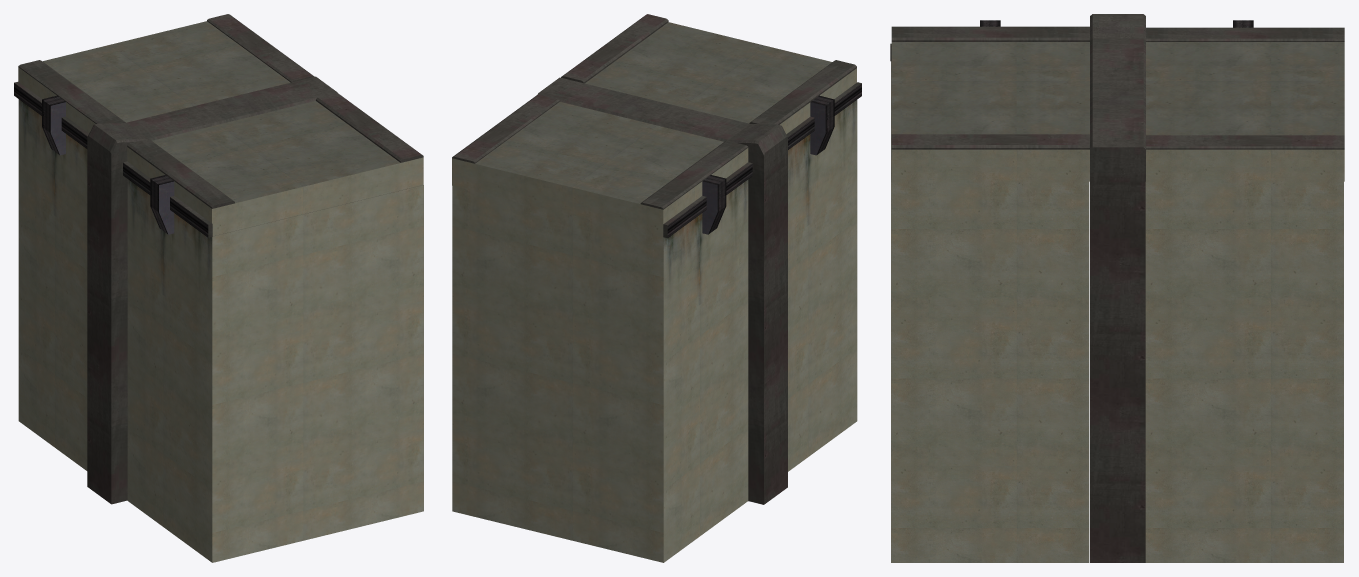
Rendered from endcap1.fbx.
3 renders of one model, left to right at view 1: azimuth 30°, elevation 25°; view 2: azimuth 150°, elevation 25°; view 3: azimuth 270°, elevation 25°, orthographic. The views are drawn at different scales.
Visible parts, largest first — view 1: Object; view 2: Object; view 3: Object.
Part boxes in pixels (<box>): Object: <box>14,14,423,562</box>; Object: <box>452,14,861,562</box>; Object: <box>890,14,1344,562</box>.
Size of the model in its own units: 2975 by 4525 by 4406.
